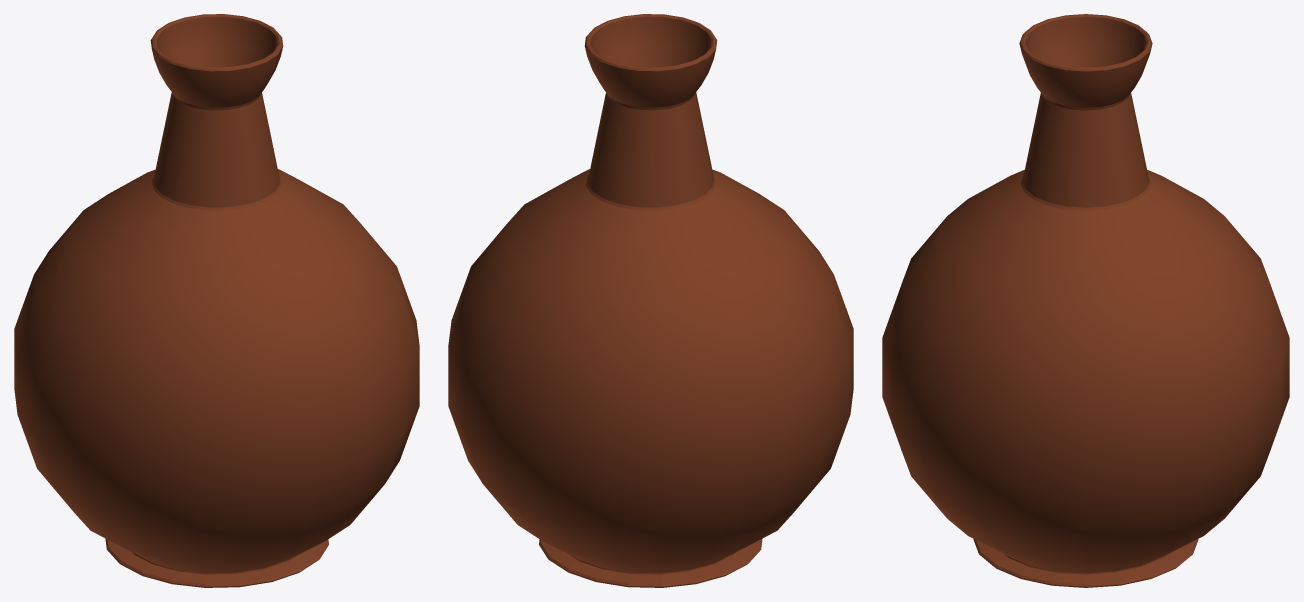
Rendered from Pot_B.fbx.
3 views of the same model, side by side, from view 1: azimuth 30°, elevation 25°; view 2: azimuth 150°, elevation 25°; view 3: azimuth 270°, elevation 25° (orthographic).
Parts seen in each view (by area): view 1: Pot_B; view 2: Pot_B; view 3: Pot_B.
Part boxes in pixels (x1,y1,x2,y2): Pot_B: (14, 14, 419, 587); Pot_B: (448, 14, 853, 587); Pot_B: (882, 14, 1289, 587).
Size of the model in its own units: 47.29 by 64.01 by 47.29.
